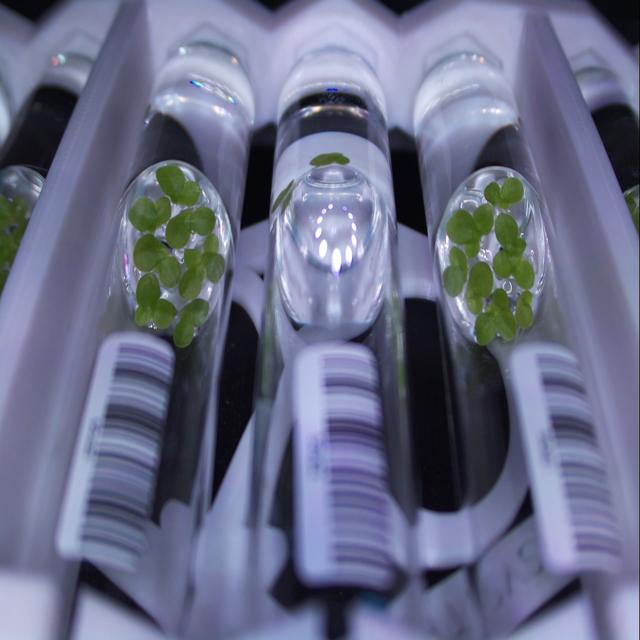Lemna-Gibba: (492, 213, 535, 290), (179, 233, 225, 300), (445, 203, 494, 258), (134, 233, 181, 289), (475, 289, 518, 345), (135, 274, 176, 329), (165, 207, 216, 248), (156, 165, 201, 207), (174, 299, 209, 347), (129, 197, 171, 233), (465, 262, 492, 314), (484, 177, 524, 210), (442, 247, 468, 297), (271, 180, 295, 213), (515, 290, 534, 329), (310, 152, 350, 167)
